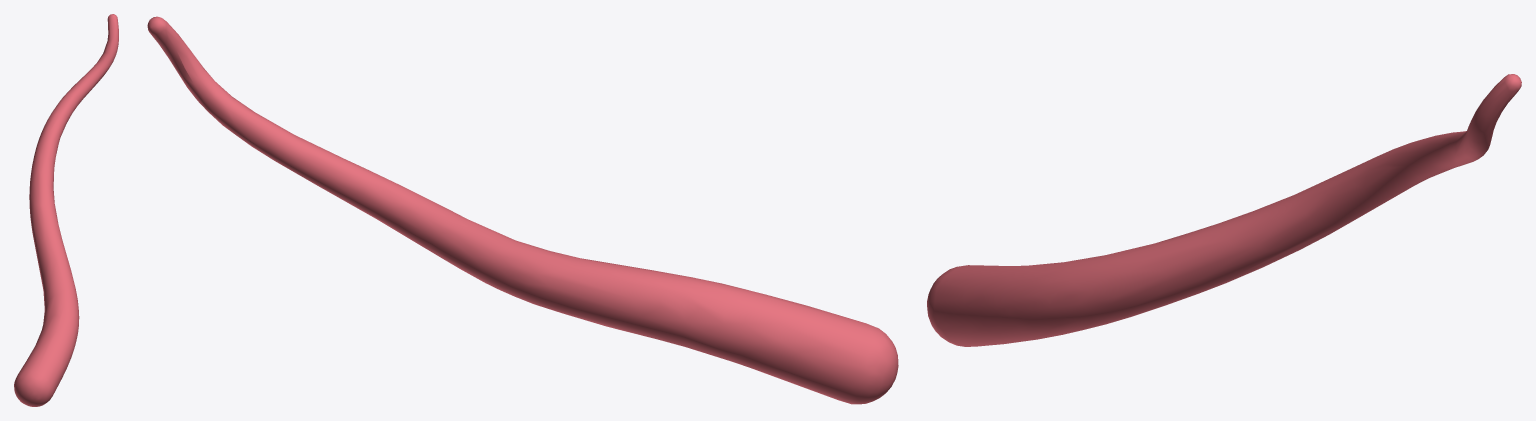
The model's file is fma70487_fj3462.glb.
3 views of the same model, side by side, from view 1: azimuth 30°, elevation 25°; view 2: azimuth 150°, elevation 25°; view 3: azimuth 270°, elevation 25° (orthographic). The views are drawn at different scales.
Visible parts, largest first — view 1: FMA70487_FJ3462; view 2: FMA70487_FJ3462; view 3: FMA70487_FJ3462.
Boxes of the visible parts, x1=… form: FMA70487_FJ3462: x1=14, y1=14, x2=118, y2=406; FMA70487_FJ3462: x1=147, y1=16, x2=898, y2=404; FMA70487_FJ3462: x1=927, y1=74, x2=1521, y2=346.
Bounding box in the file's own units: 0.0263 × 0.0255 × 0.0287.
